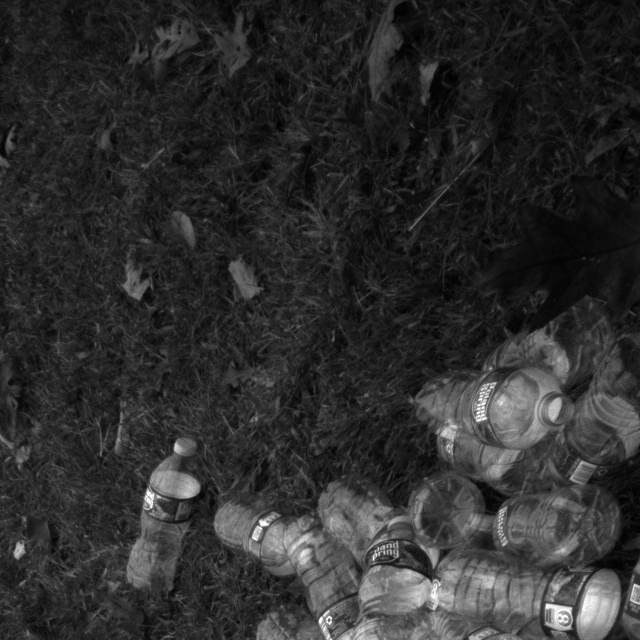bottle: (418, 531, 626, 640), (112, 428, 219, 610), (398, 368, 579, 453), (200, 486, 326, 593), (354, 512, 438, 640)
